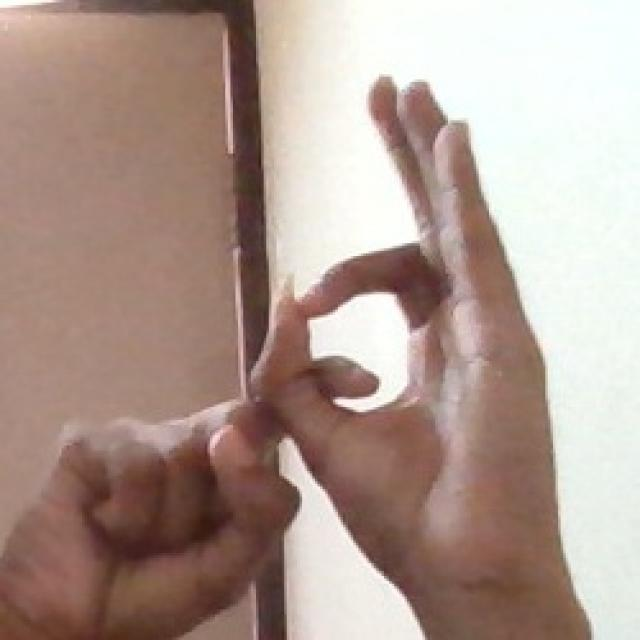Alphabet-Q: (21, 65, 571, 640)
